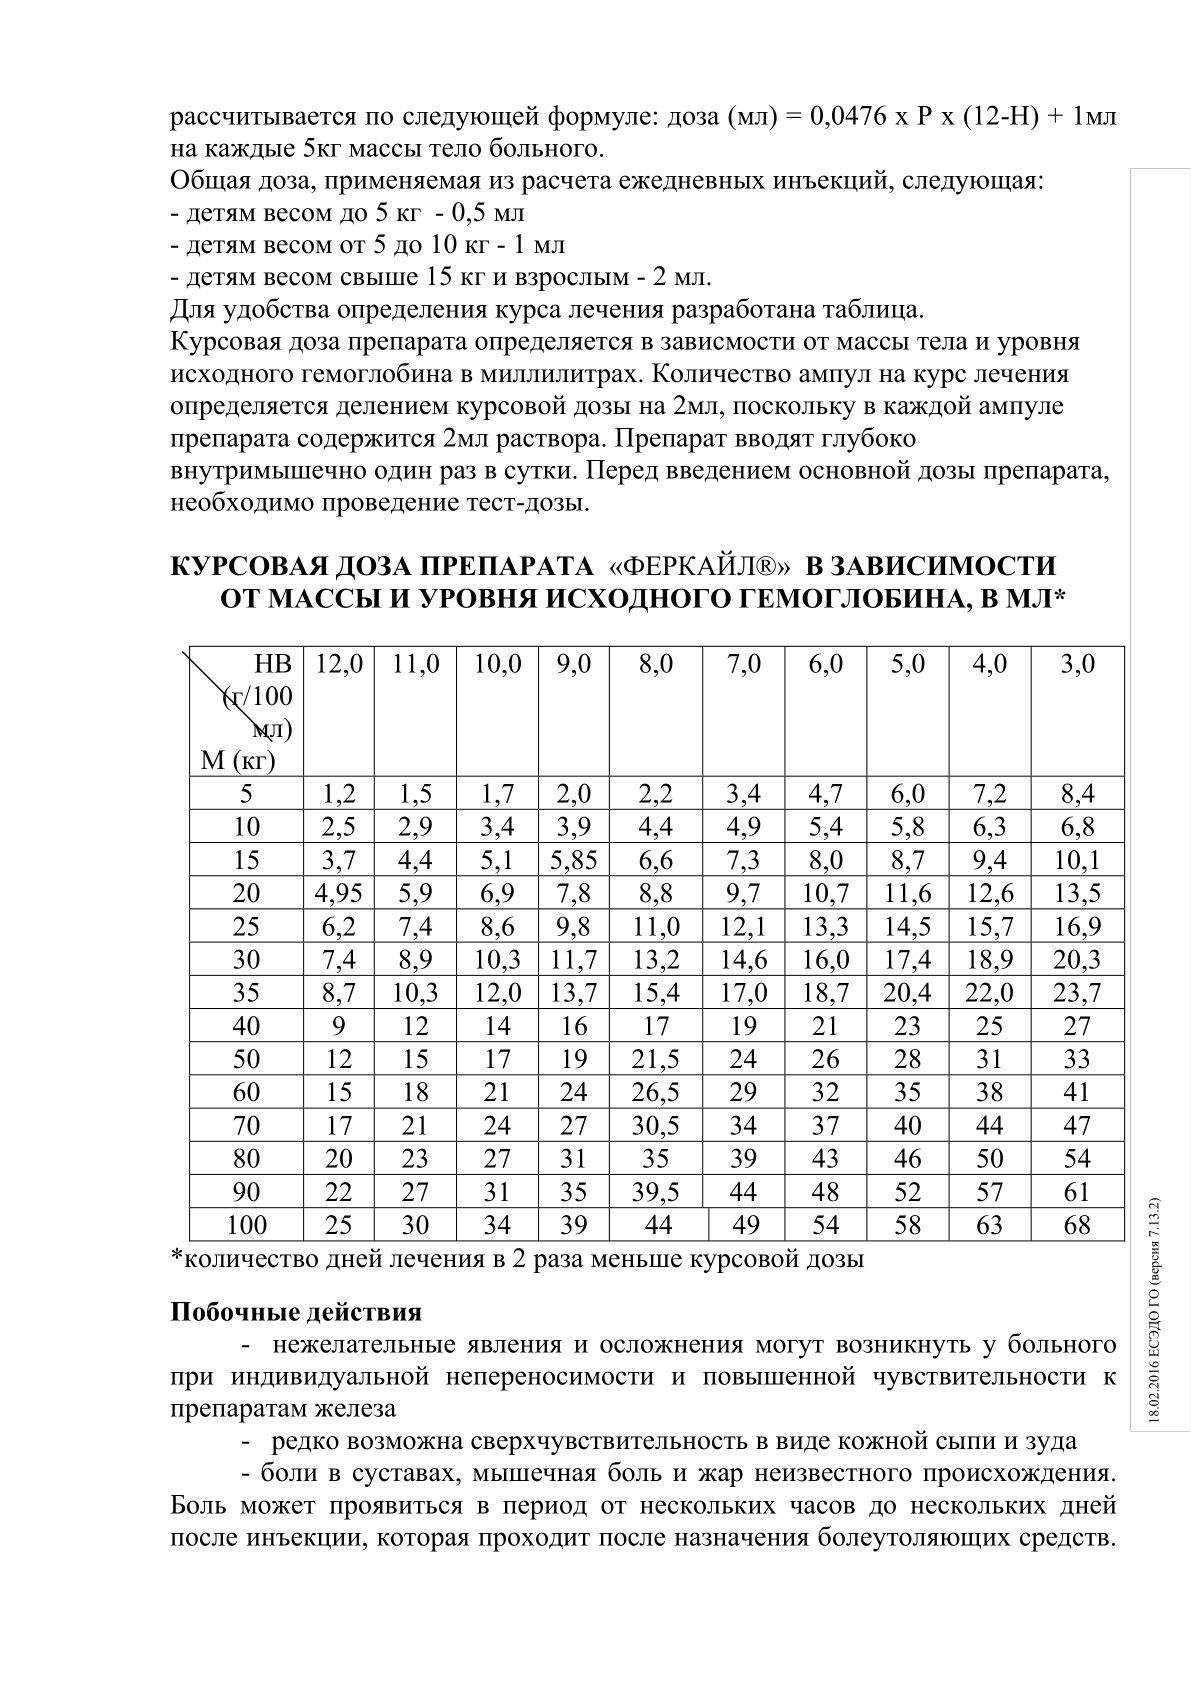full_lined: (188, 644, 1127, 1243)
